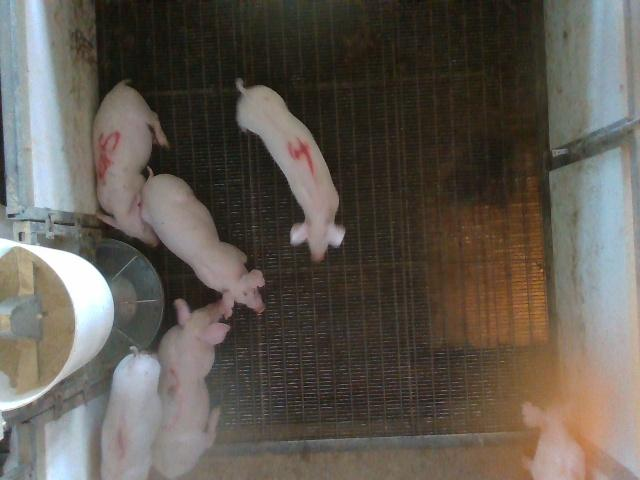pig-1: (101, 351, 161, 479)
pig-3: (152, 300, 230, 478)
pig-4: (236, 79, 345, 261)
pig-5: (94, 80, 169, 247)
